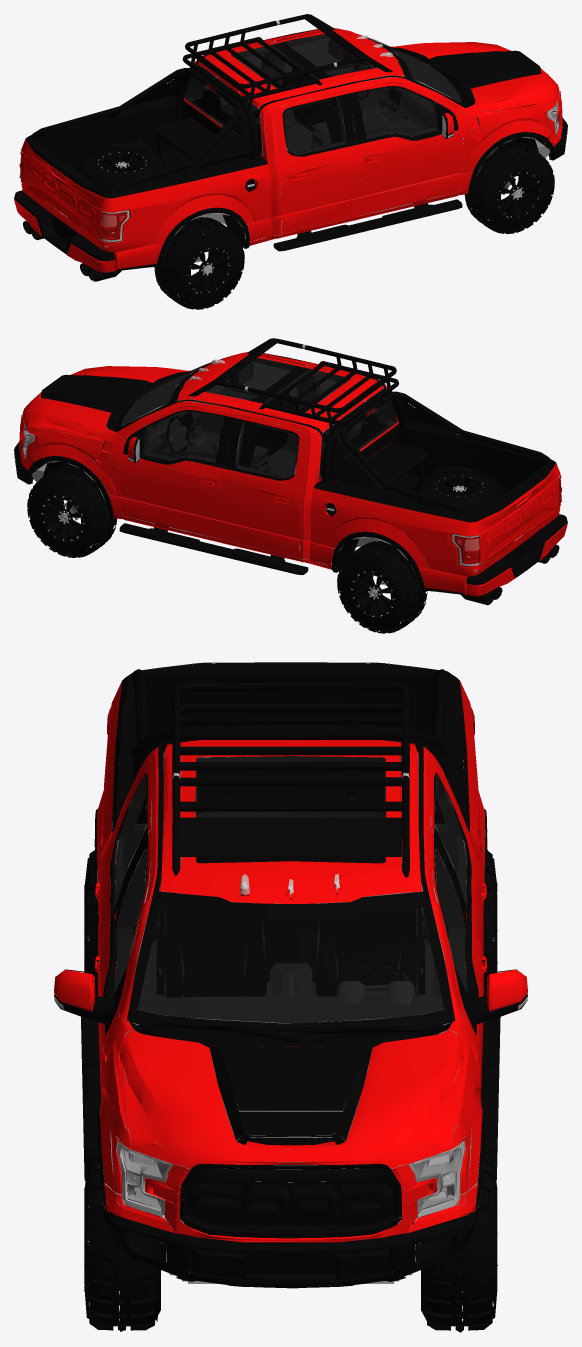
File: veh-pickup.glb
The picture shows the model from 3 angles, top to bottom: view 1: azimuth 30°, elevation 25°; view 2: azimuth 150°, elevation 25°; view 3: azimuth 270°, elevation 25°; orthographic projection. The views are drawn at different scales.
Parts seen in each view (by area): view 1: Material2.006, Material2.003, Material2.005, Material3, Material2.4260, Material2.1486, Material2.004, Material2, Material2.5647, Material3.002, Material2.1545, Material2.4319 (+6 smaller); view 2: Material2.006, Material2.003, Material2.005, Material3, Material2.2873, Material2.099, Material2.004, Material2, Material2.5647, Material3.002, Material2.158, Material2.2932 (+6 smaller); view 3: Material2.003, Material2.006, Material2.005, Material3, Material2, Material2.004, Material3.002, Material2.1486, Material2.099, Material2.001, Material2.4260, Material2.2873.
Boxes of the visible parts, x1,y1,x2,y2 form: Material2.006: (14,28,562,272); Material2.003: (14,14,567,276); Material2.005: (184,34,460,155); Material3: (46,34,559,270); Material2.4260: (154,217,244,309); Material2.1486: (464,141,554,234); Material2.004: (28,29,566,281); Material2: (193,49,466,157); Material2.5647: (77,147,167,192); Material3.002: (210,34,558,191); Material2.1545: (497,161,537,214); Material2.4319: (188,248,227,290); Material2.006: (19,352,567,596); Material2.003: (14,338,567,605); Material2.005: (121,358,397,479); Material3: (22,353,534,594); Material2.2873: (337,541,427,633); Material2.099: (27,465,117,557); Material2.004: (15,374,559,594); Material2: (111,373,387,481); Material2.5647: (413,470,504,516); Material3.002: (23,356,371,515); Material2.158: (44,496,83,538); Material2.2932: (354,572,393,614); Material2.003: (54,662,527,1288); Material2.006: (54,669,527,1242); Material2.005: (114,756,467,1023); Material3: (97,748,487,1281); Material2: (150,797,428,1042); Material2.004: (103,722,480,1276); Material3.002: (127,771,454,1274); Material2.1486: (84,1150,160,1331); Material2.099: (421,1150,496,1332); Material2.001: (54,772,527,1283); Material2.4260: (84,850,98,994); Material2.2873: (483,850,496,994).
Bounding box in the file's own units: 223 × 84.78 × 92.8.
